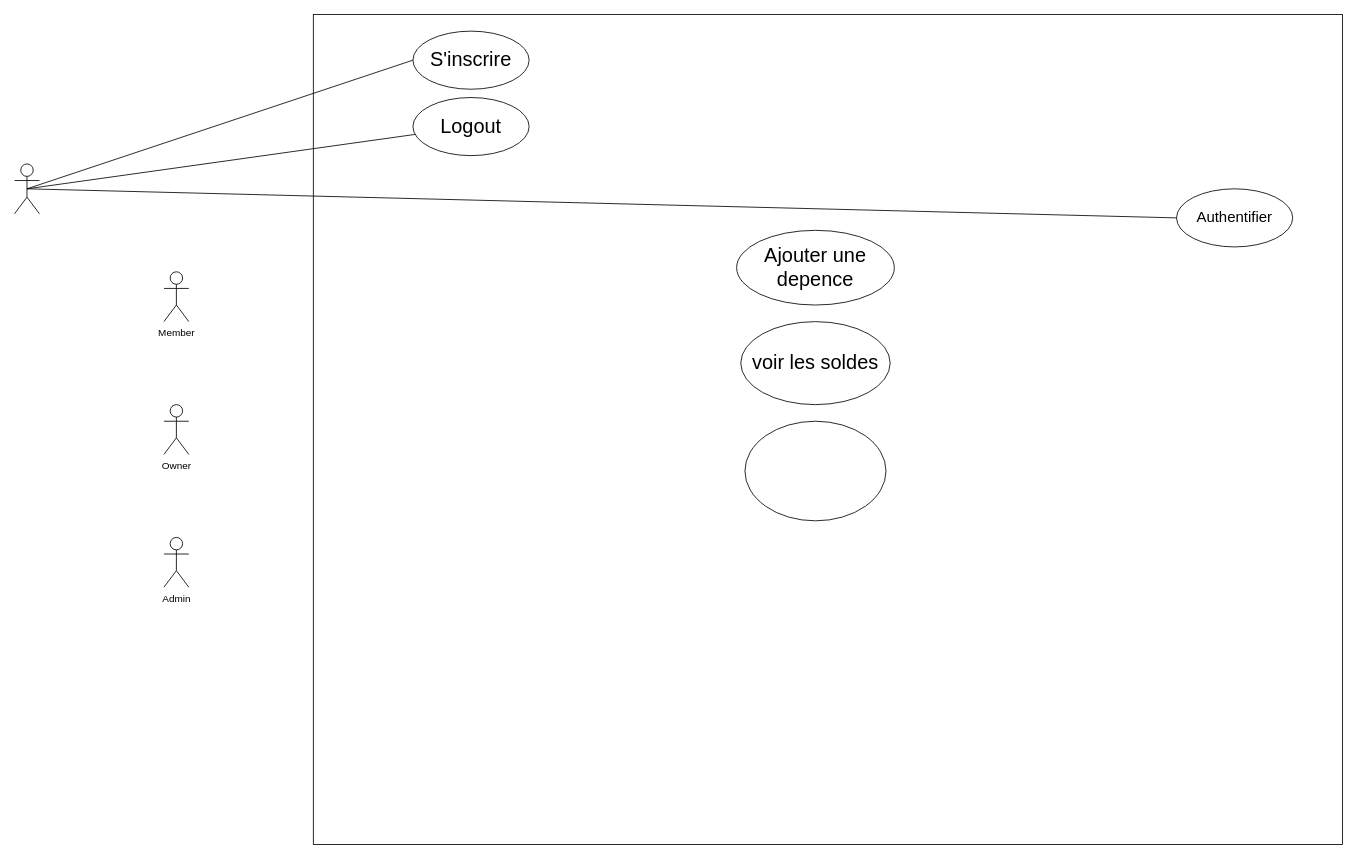
This 1357x859 diagram has some shape labels left out. Each missing label, with the centre of its shape:
"quitter une collocation" belongs at (x=815, y=470).
"User" belongs at (x=26, y=188).
